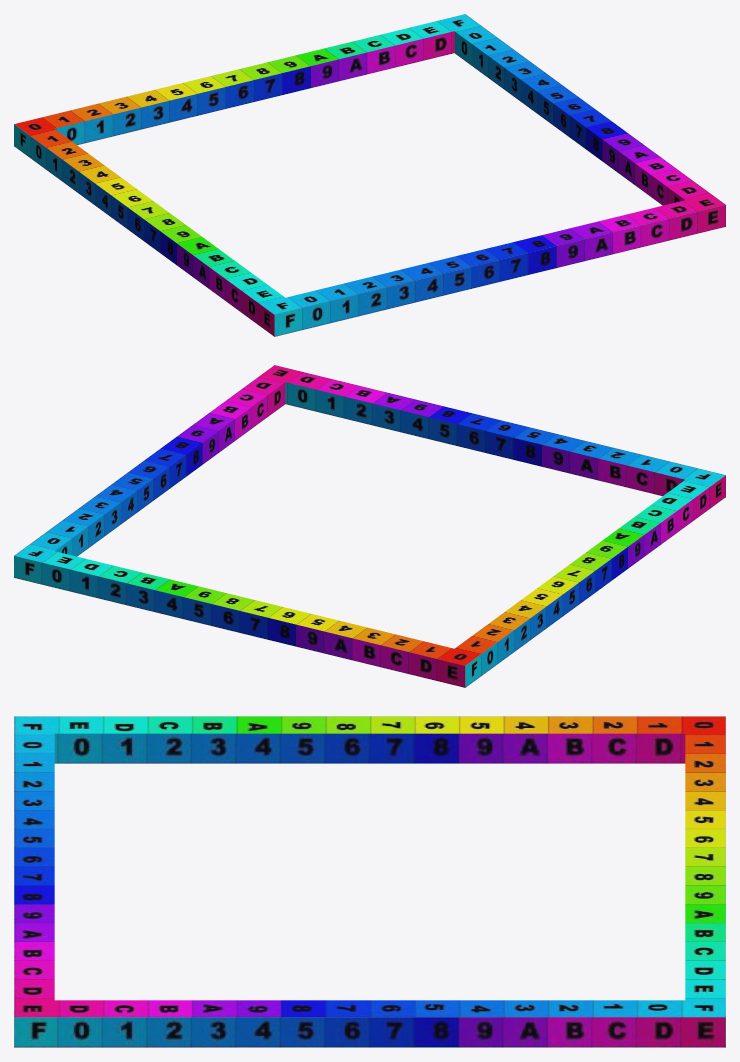
The model's file is bbuilder_box with large hole square.dae.
The picture shows the model from 3 angles, top to bottom: view 1: azimuth 30°, elevation 25°; view 2: azimuth 150°, elevation 25°; view 3: azimuth 270°, elevation 25°; orthographic projection. The views are drawn at different scales.
Visible parts, largest first — view 1: SketchUp (×2); view 2: SketchUp (×2); view 3: SketchUp (×2).
Part boxes in pixels (box(x1,y1,x2,y2)): SketchUp (×2): box(14, 14, 725, 336); SketchUp (×2): box(14, 365, 725, 687); SketchUp (×2): box(14, 716, 725, 1047).
Bounding box in the file's own units: 134 × 134 × 6.25.
